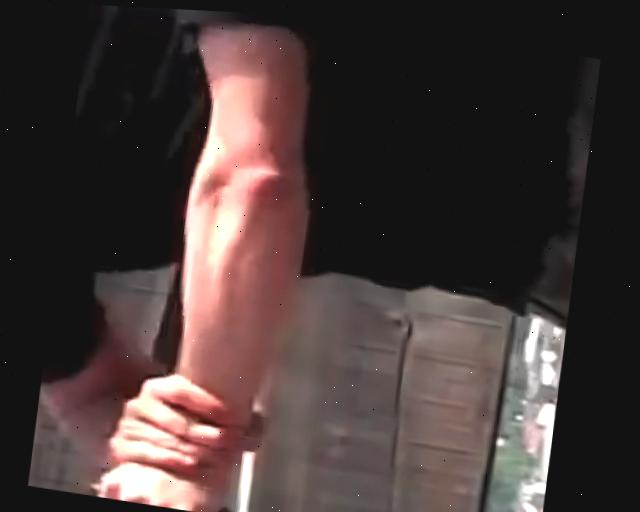long knife: (71, 476, 432, 512)
